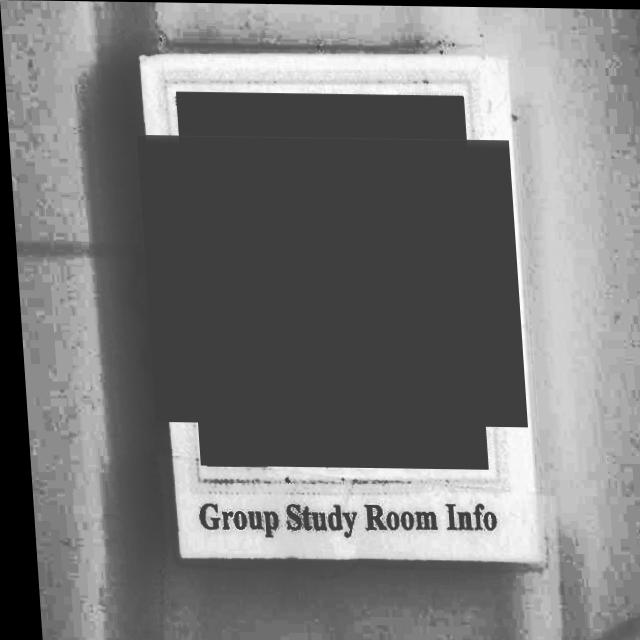qr_code: (155, 113, 502, 447)
